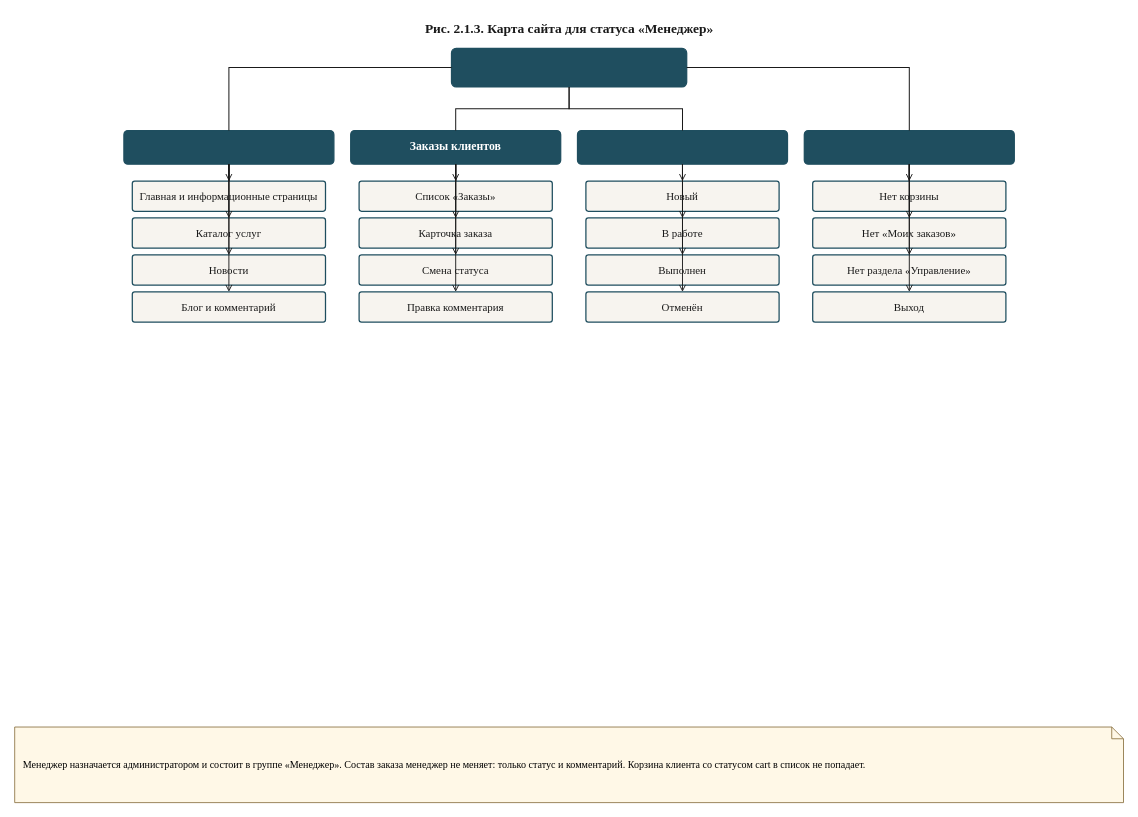
This 1138x817 diagram has some shape labels left out. The shapes that lost their labels are listed below. From the top down, each one's centre as x and y in pixels, then its label:
At (x=568, y=67): "Сайт «Пси-Эксперт»".
At (x=228, y=147): "Просмотр".
At (x=682, y=147): "Статусы".
At (x=909, y=147): "Ограничения".
